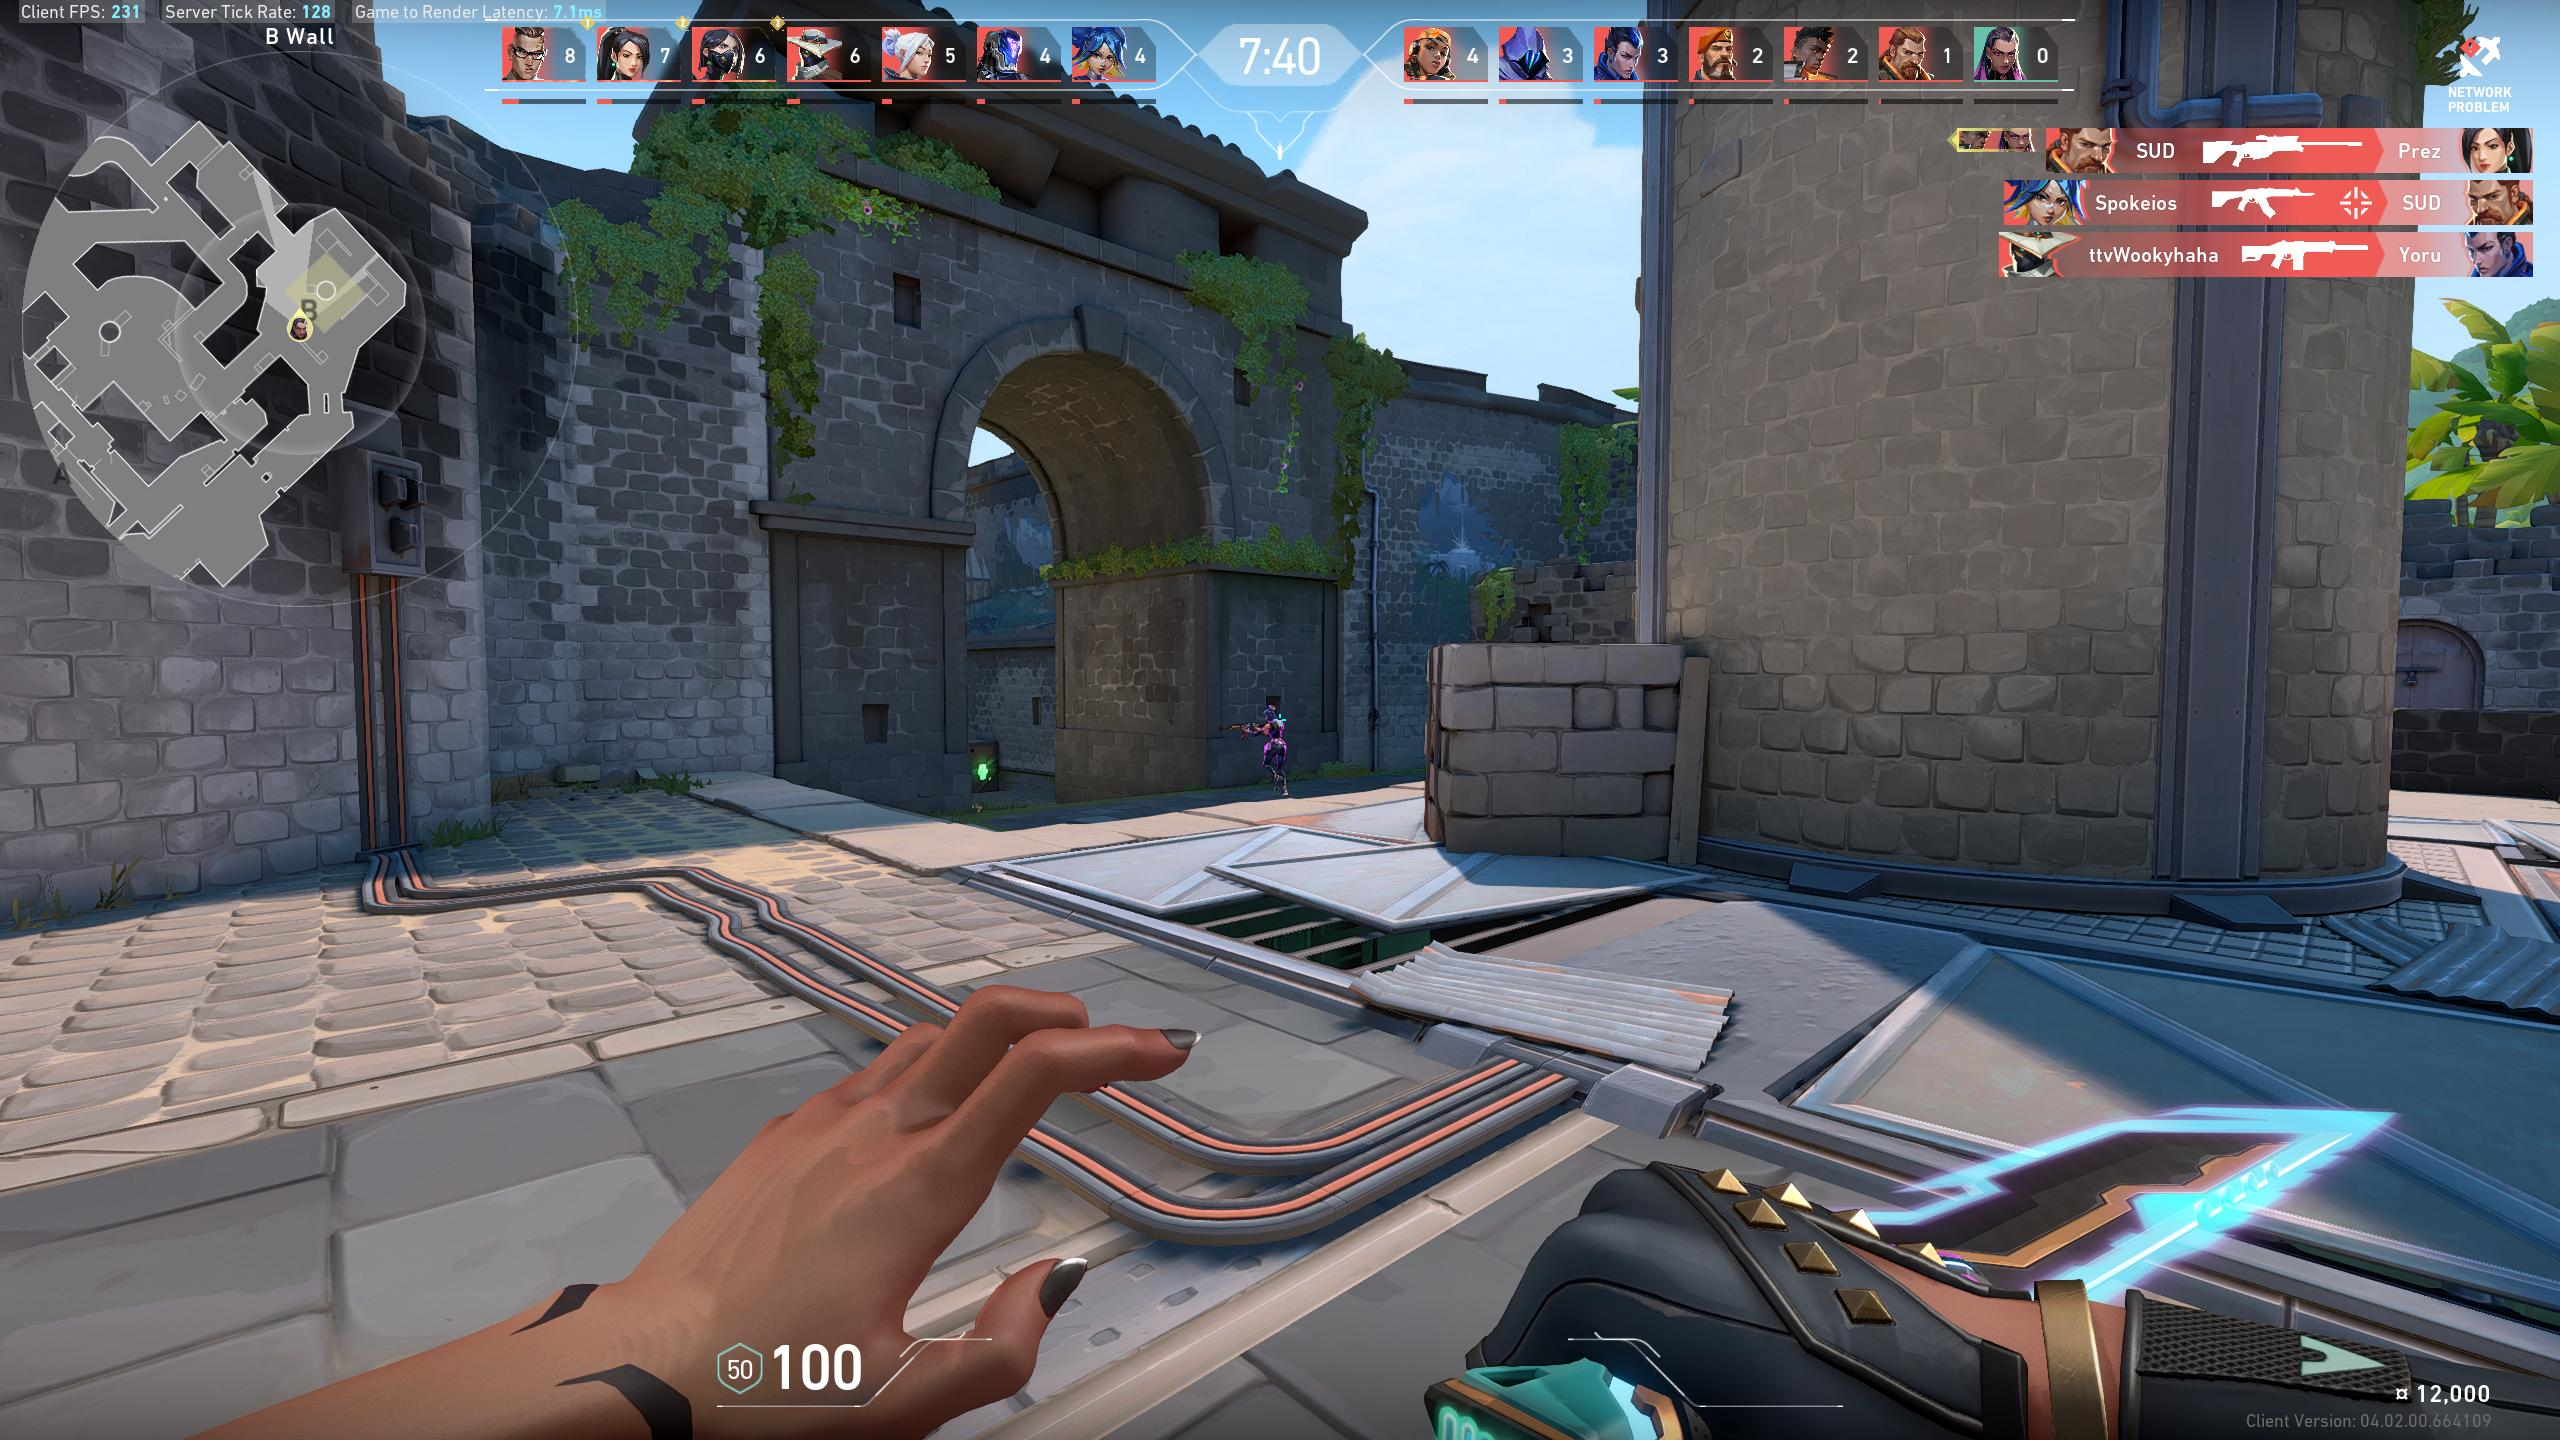enemyBody: (1271, 724, 1280, 740)
enemyHead: (1268, 712, 1275, 723)
